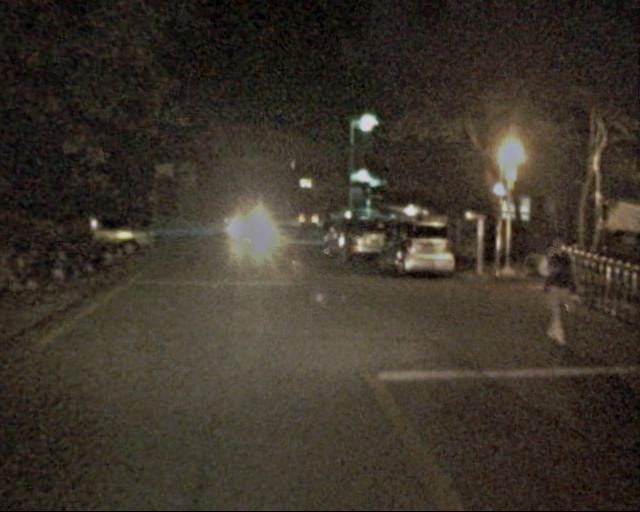person: (529, 235, 582, 349)
